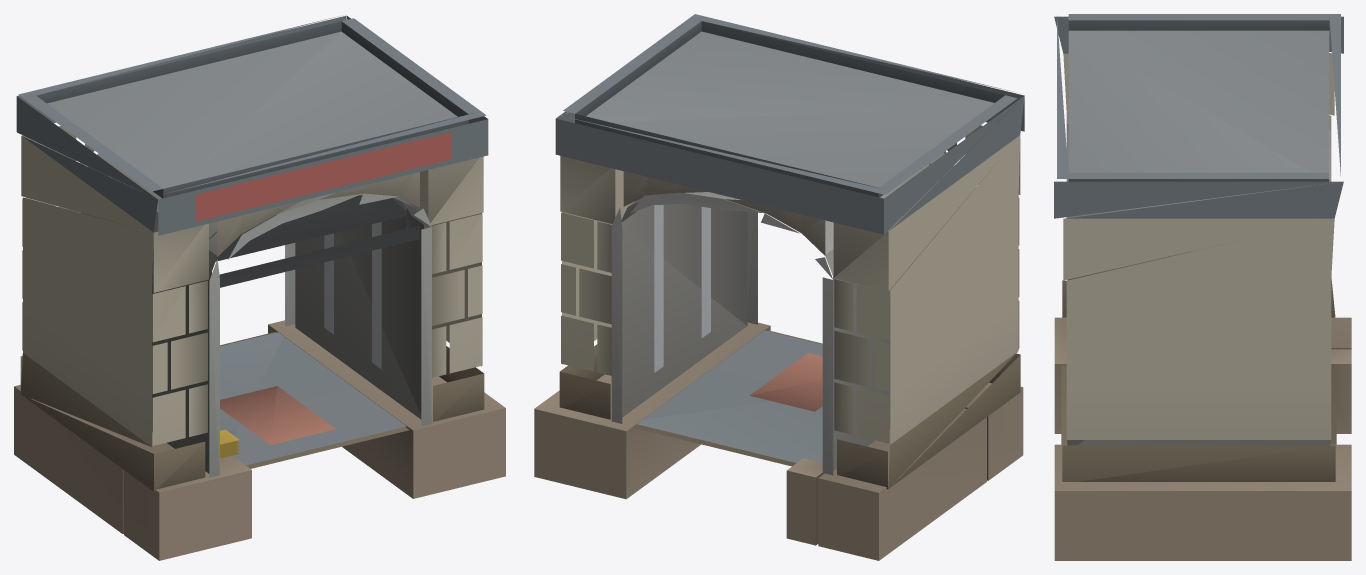
File: tunnel.lod.glb
3 views of the same model, side by side, from view 1: azimuth 30°, elevation 25°; view 2: azimuth 150°, elevation 25°; view 3: azimuth 270°, elevation 25° (orthographic). The views are drawn at different scales.
Visible parts, largest first — view 1: tunnel.001; view 2: tunnel.001; view 3: tunnel.001.
Part boxes in pixels (<box>): tunnel.001: <box>14,15,505,560</box>; tunnel.001: <box>534,14,1024,560</box>; tunnel.001: <box>1054,14,1351,560</box>.
Bounding box in the file's own units: 5.48 × 5.49 × 3.98.
